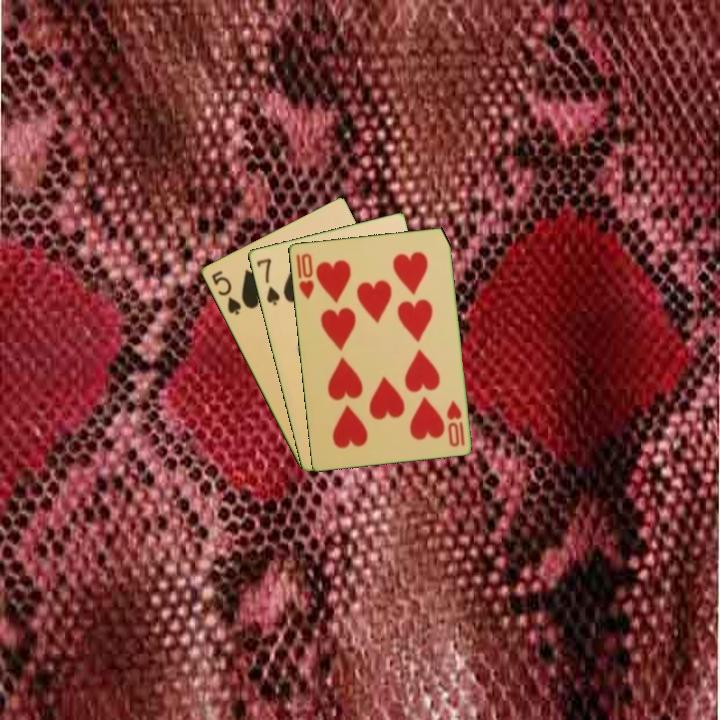10h: (292, 249, 316, 302), (443, 397, 467, 450)
5s: (208, 267, 244, 318)
7s: (253, 254, 282, 308)
